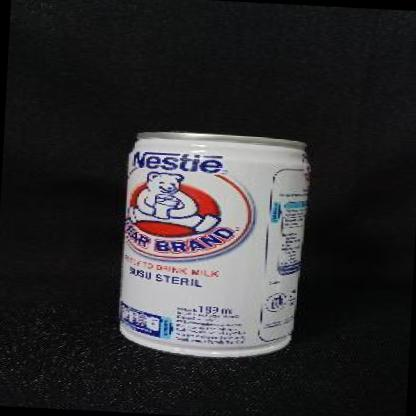alumunium_can: (116, 129, 314, 363)
